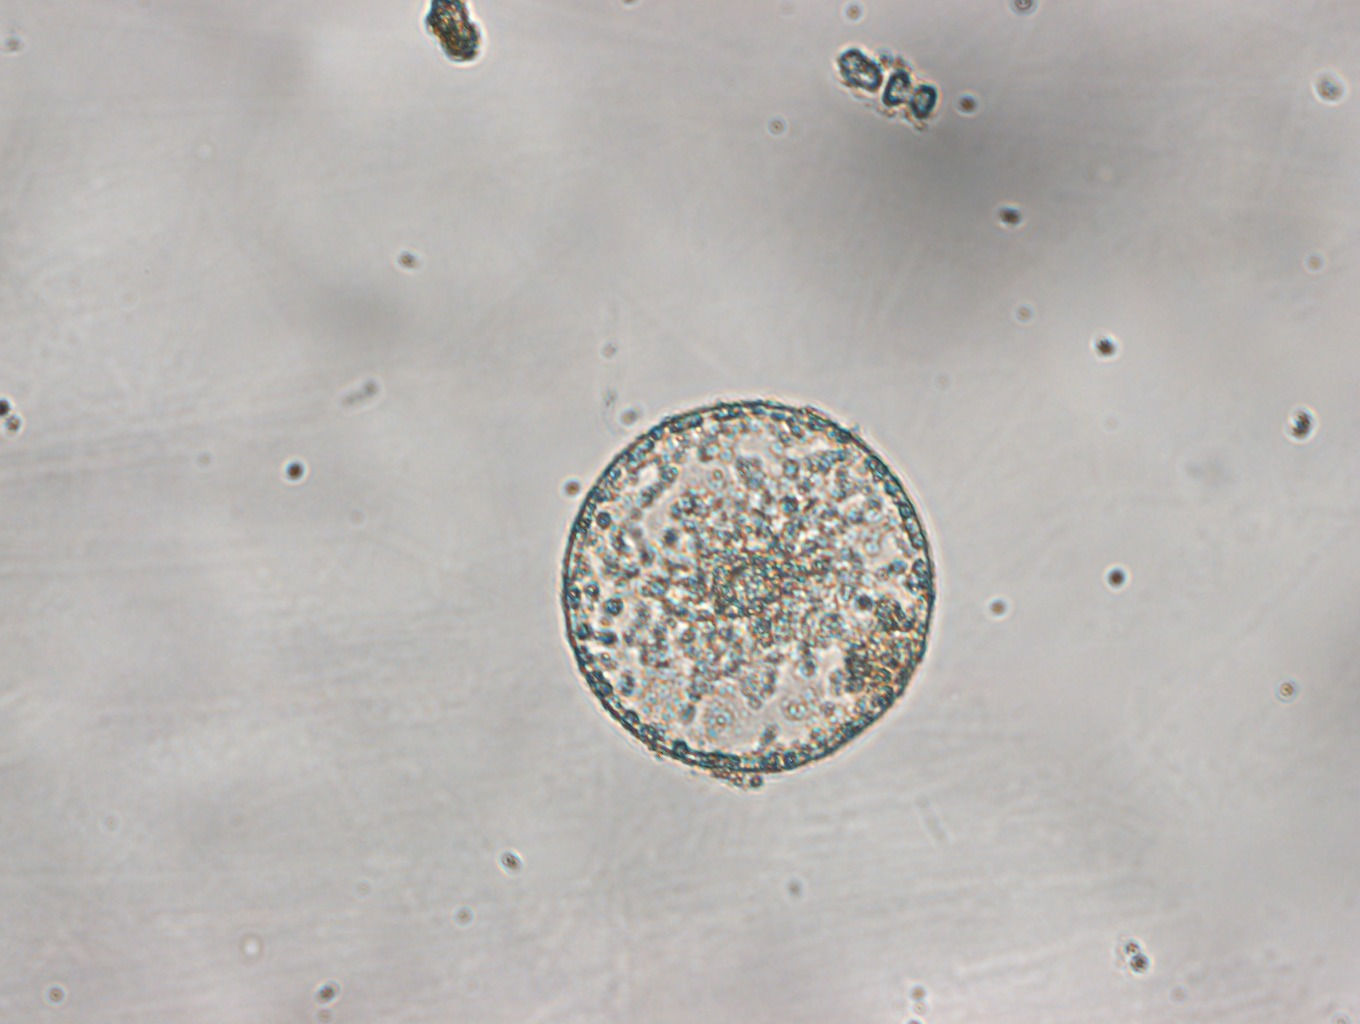coscinodiscus: (559, 397, 939, 777)
